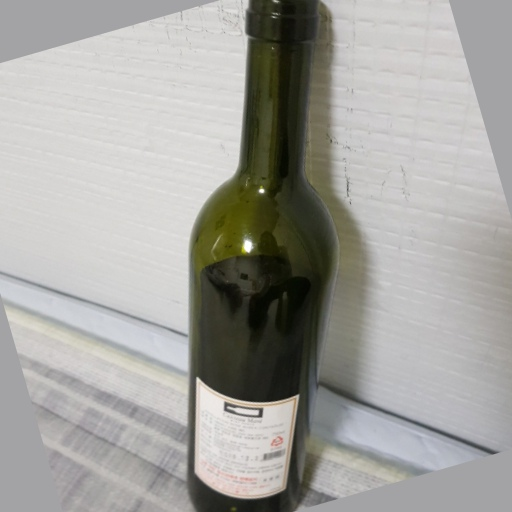Glass_2: (181, 2, 342, 512)
